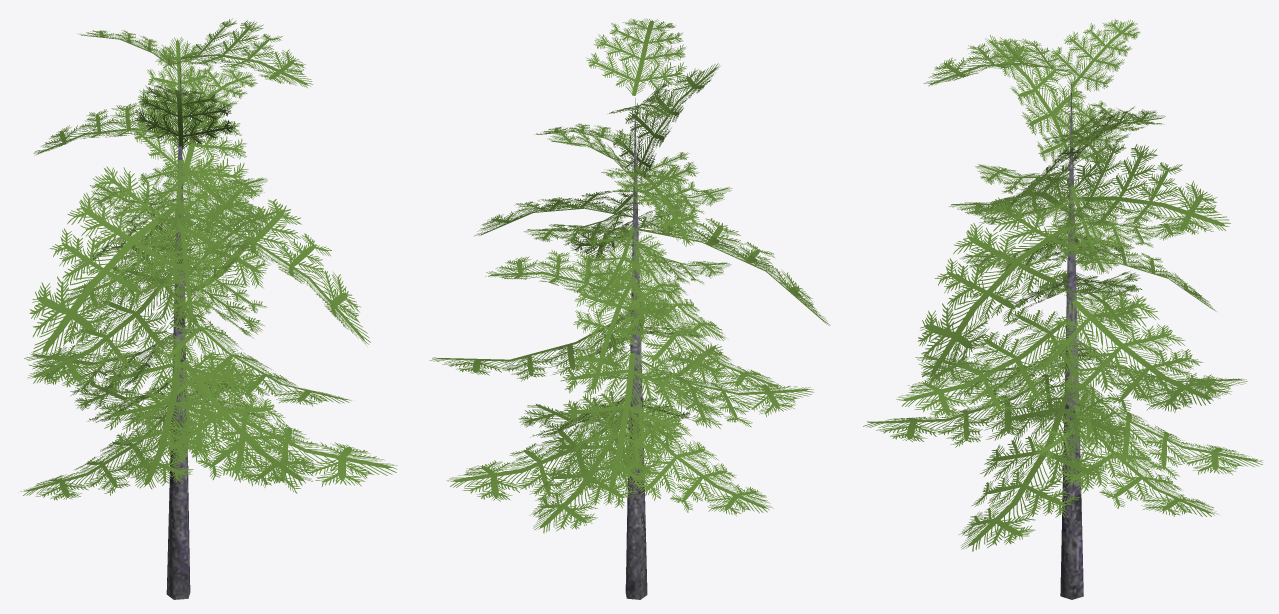
Rendered from SpruceSapling1.fbx.
3 renders of one model, left to right at view 1: azimuth 30°, elevation 25°; view 2: azimuth 150°, elevation 25°; view 3: azimuth 270°, elevation 25°, orthographic. The views are drawn at different scales.
Visible parts, largest first — view 1: Spruce Sapling 1; view 2: Spruce Sapling 1; view 3: Spruce Sapling 1.
Boxes of the visible parts, left/top/right/bottom form: Spruce Sapling 1: left=20, top=18, right=397, bottom=599; Spruce Sapling 1: left=429, top=18, right=830, bottom=599; Spruce Sapling 1: left=863, top=19, right=1262, bottom=599.
Bounding box in the file's own units: 95.64 × 145 × 94.74.
